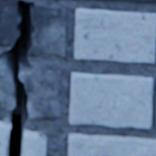brick: (69, 71, 152, 127), (74, 7, 155, 61), (68, 132, 155, 155), (120, 0, 155, 2)
broken_brick: (19, 68, 61, 118), (27, 6, 66, 56), (0, 0, 21, 45), (0, 59, 15, 109), (22, 128, 46, 155), (0, 120, 10, 155)
crack: (0, 0, 34, 155)
